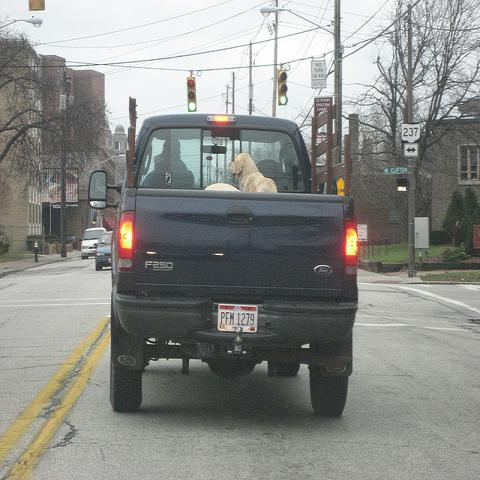car: (77, 228, 107, 260), (94, 231, 113, 270)
truck: (103, 108, 358, 415)
